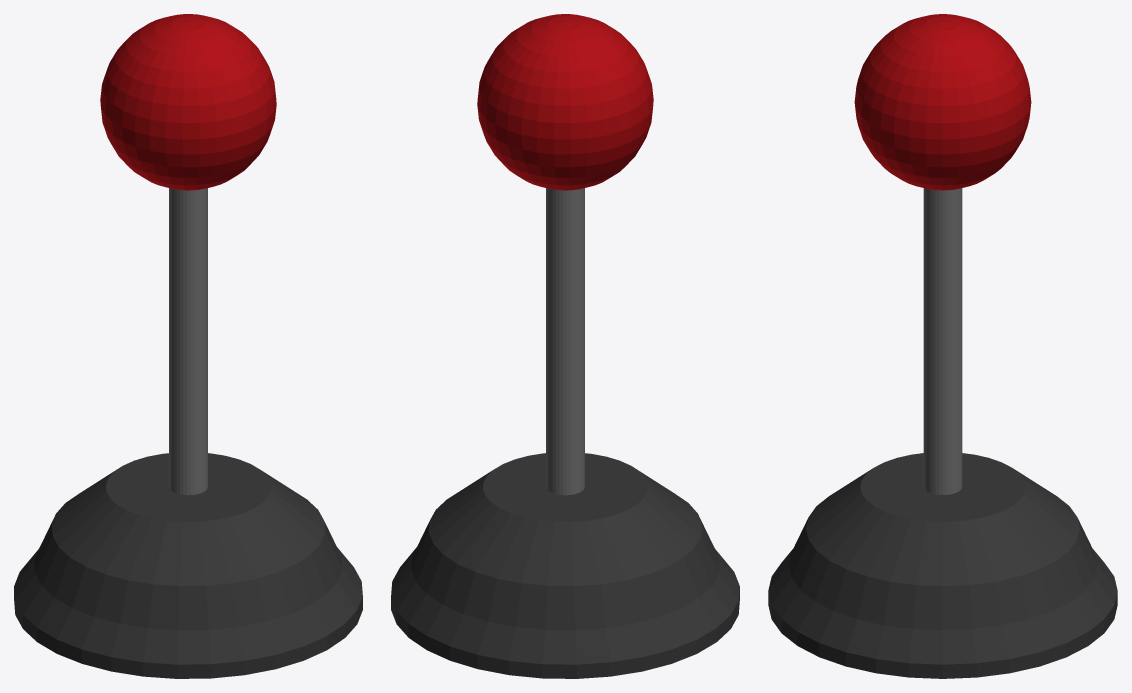
Rendered from 2AxisLever.fbx.
3 views of the same model, side by side, from view 1: azimuth 30°, elevation 25°; view 2: azimuth 150°, elevation 25°; view 3: azimuth 270°, elevation 25° (orthographic).
Parts seen in each view (by area): view 1: Base, Lever; view 2: Base, Lever; view 3: Base, Lever.
Boxes of the visible parts, x1=… form: Base: x1=14, y1=453, x2=362, y2=678; Lever: x1=100, y1=14, x2=276, y2=495; Base: x1=391, y1=453, x2=739, y2=678; Lever: x1=477, y1=14, x2=653, y2=495; Base: x1=768, y1=453, x2=1117, y2=678; Lever: x1=854, y1=14, x2=1031, y2=494.
Bounding box in the file's own units: 395 × 728 × 395.
